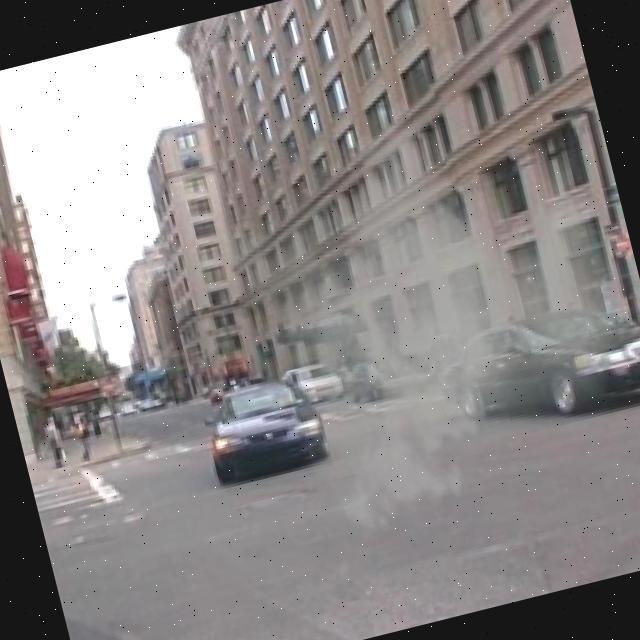smoke: (200, 62, 640, 564)
